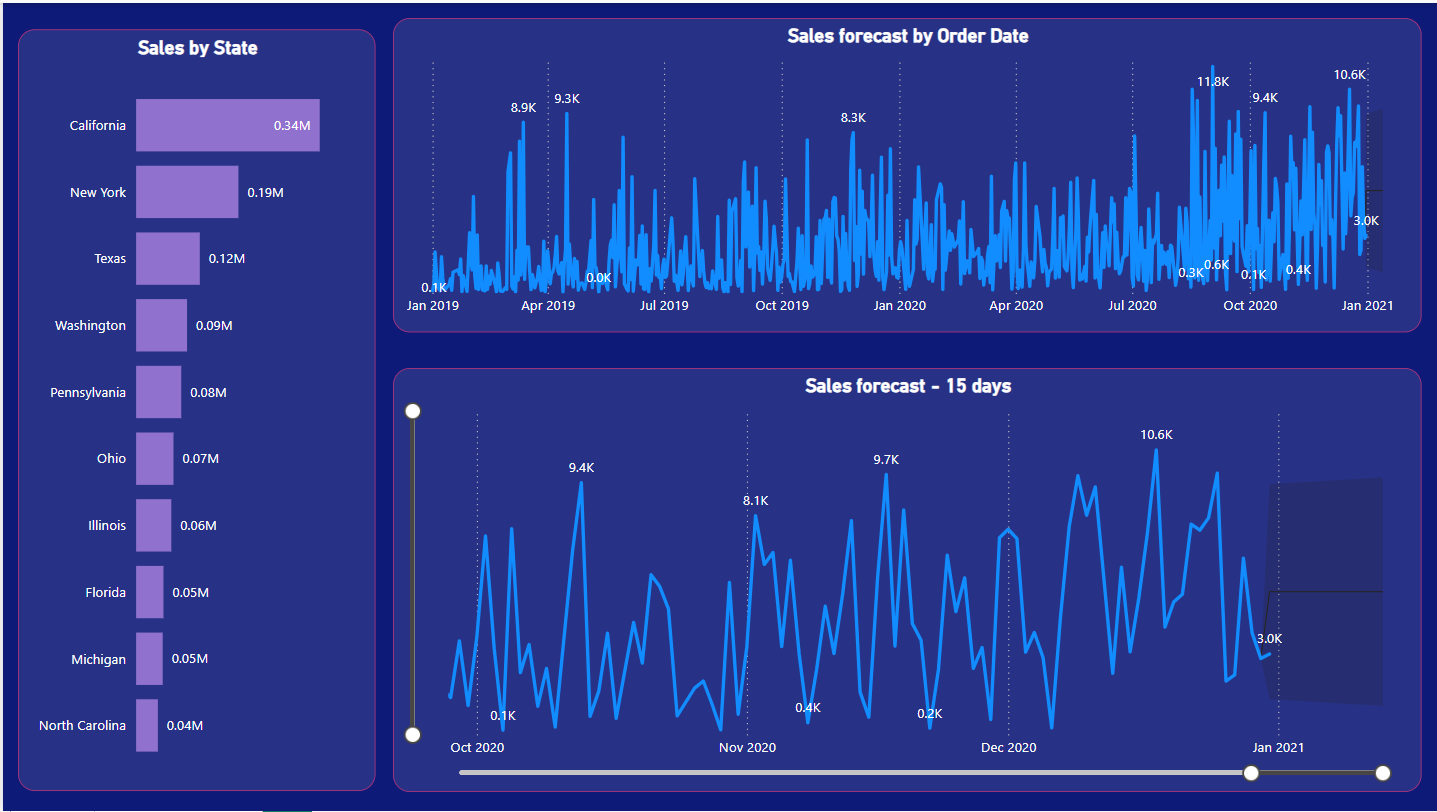

The dashboard page shown, as its layout file describes it:
{"tool":"powerbi","page":{"name":"Sales Forecasting","canvas":[1280,720],"ordinal":1},"visuals":[{"type":"lineChart","title":"Sales forecast by Order Date","fields":{"Y":["Sum(SuperStore_Sales_Dataset.Sales)"],"Category":["SuperStore_Sales_Dataset.Order Date"]},"box":[347.5,13.8,916.2,280],"z":0},{"type":"clusteredBarChart","title":"Sales by State","fields":{"Y":["Sum(SuperStore_Sales_Dataset.Sales)"],"Category":["SuperStore_Sales_Dataset.State"]},"box":[13.8,23.8,318.8,678.8],"z":1},{"type":"lineChart","title":"Sales forecast - 15 days","fields":{"Y":["Sum(SuperStore_Sales_Dataset.Sales)"],"Category":["SuperStore_Sales_Dataset.Order Date"]},"box":[347.5,325,916.2,377.5],"z":2}]}

Visuals, with their boxes in screenshot pixels (x1, y1, x2, y2), scaled from the page's 1280x720 canvas onto the 1437x812 screenshot:
"Sales forecast by Order Date" lineChart: detection(390, 16, 1419, 331)
"Sales by State" clusteredBarChart: detection(15, 27, 373, 792)
"Sales forecast - 15 days" lineChart: detection(390, 367, 1419, 792)
